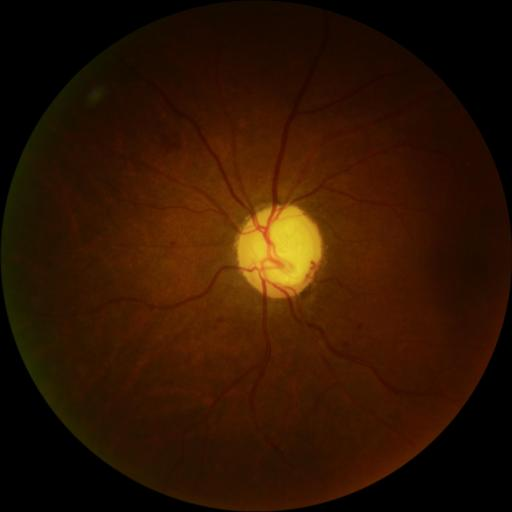Optic Cup: (251, 217, 313, 284)
Optic Disc: (237, 203, 326, 300)
